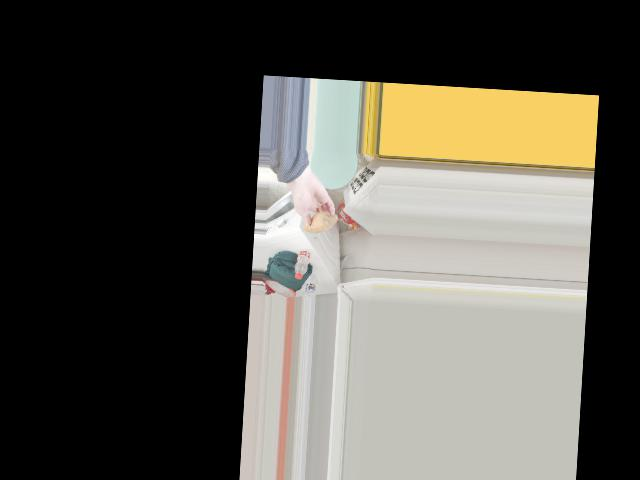sweet_potato: (304, 206, 334, 234)
